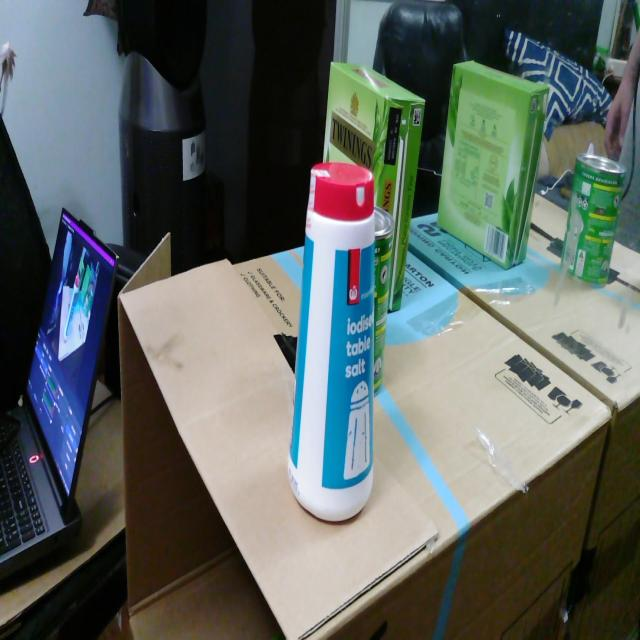nestle_milo_tin: (374, 206, 395, 397)
twinings_greentea_box: (323, 62, 425, 310)
woolworths_salt_bottle: (288, 162, 374, 521)
